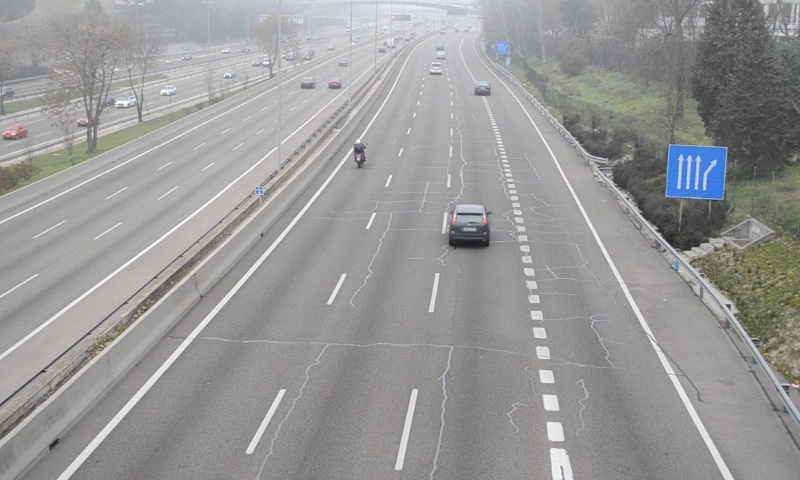car: (447, 204, 489, 247), (474, 82, 490, 96), (430, 62, 442, 75)
motorcycle: (351, 138, 366, 170)
